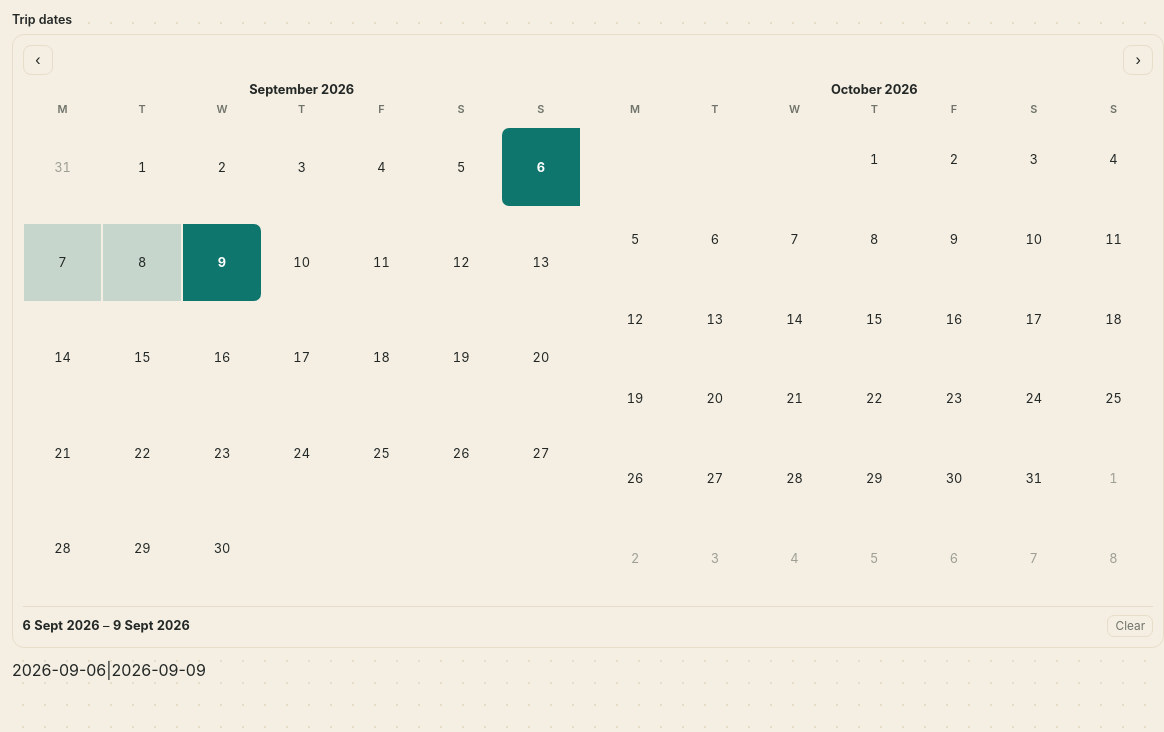
Scenario: DateRangeField › can be emptied again, which every tap otherwise prevents
Click the button "Clear": (1130, 626) [1107,615,1153,637]
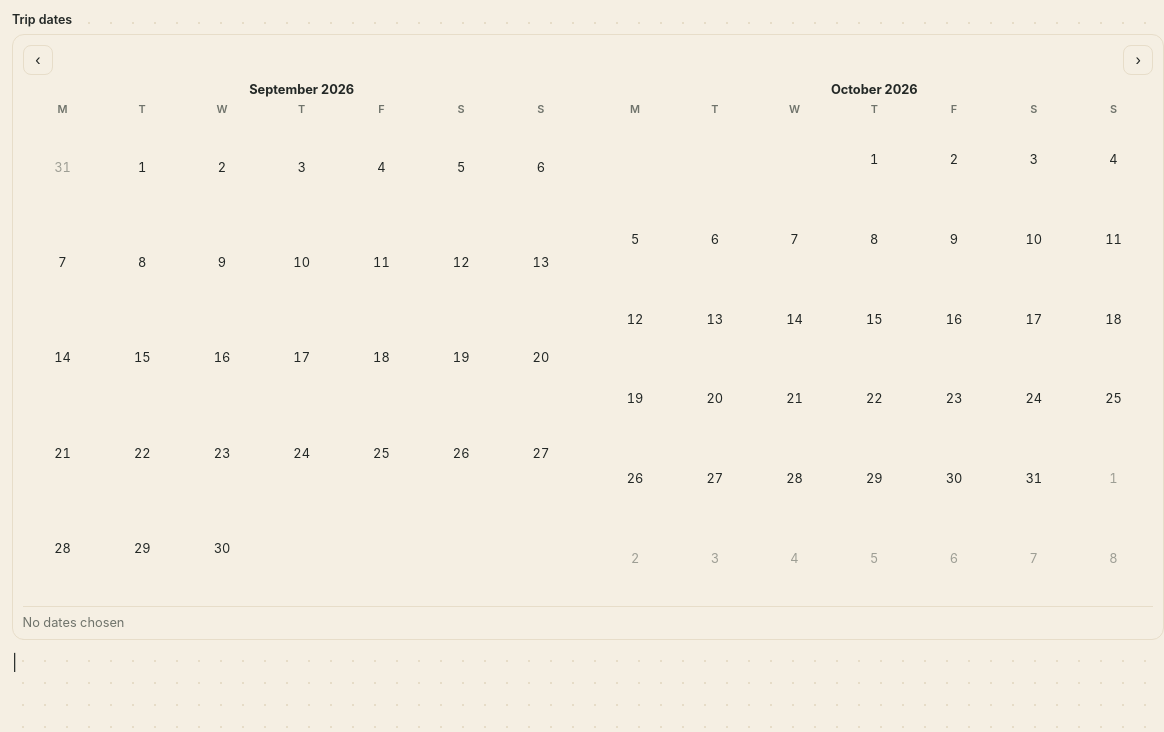
Check: the button "Clear" is gone
